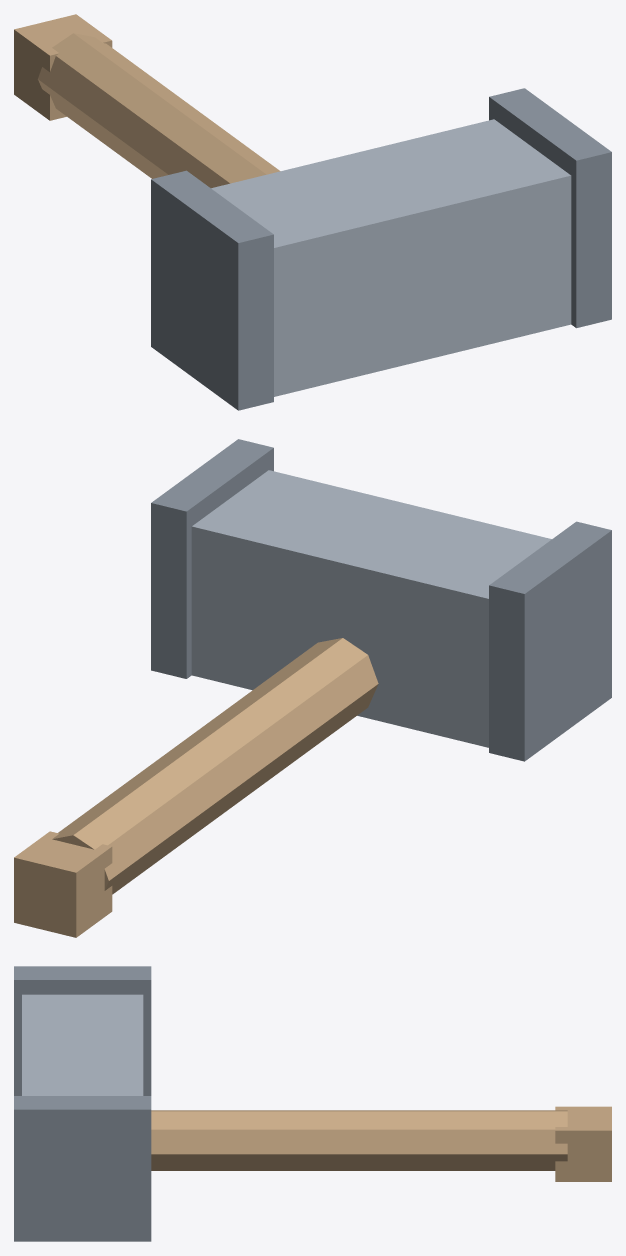
The model's file is item_iron_hammer.glb.
The picture shows the model from 3 angles, top to bottom: view 1: azimuth 30°, elevation 25°; view 2: azimuth 150°, elevation 25°; view 3: azimuth 270°, elevation 25°; orthographic projection. The views are drawn at different scales.
Visible parts, largest first — view 1: iron, iron_dark, wood; view 2: iron, wood, iron_dark; view 3: wood, iron_dark, iron.
Part boxes in pixels (bbox=[...]): iron: bbox=[211, 119, 571, 396]; iron_dark: bbox=[151, 88, 611, 410]; wood: bbox=[14, 14, 280, 188]; iron: bbox=[191, 470, 551, 747]; wood: bbox=[14, 638, 378, 937]; iron_dark: bbox=[151, 439, 611, 761]; wood: bbox=[151, 1106, 611, 1181]; iron_dark: bbox=[14, 966, 151, 1241]; iron: bbox=[22, 994, 143, 1095].
Bounding box in the file's own units: 0.21 × 0.09 × 0.37.
